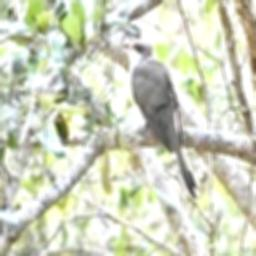Cuckoo: (123, 41, 197, 199)
